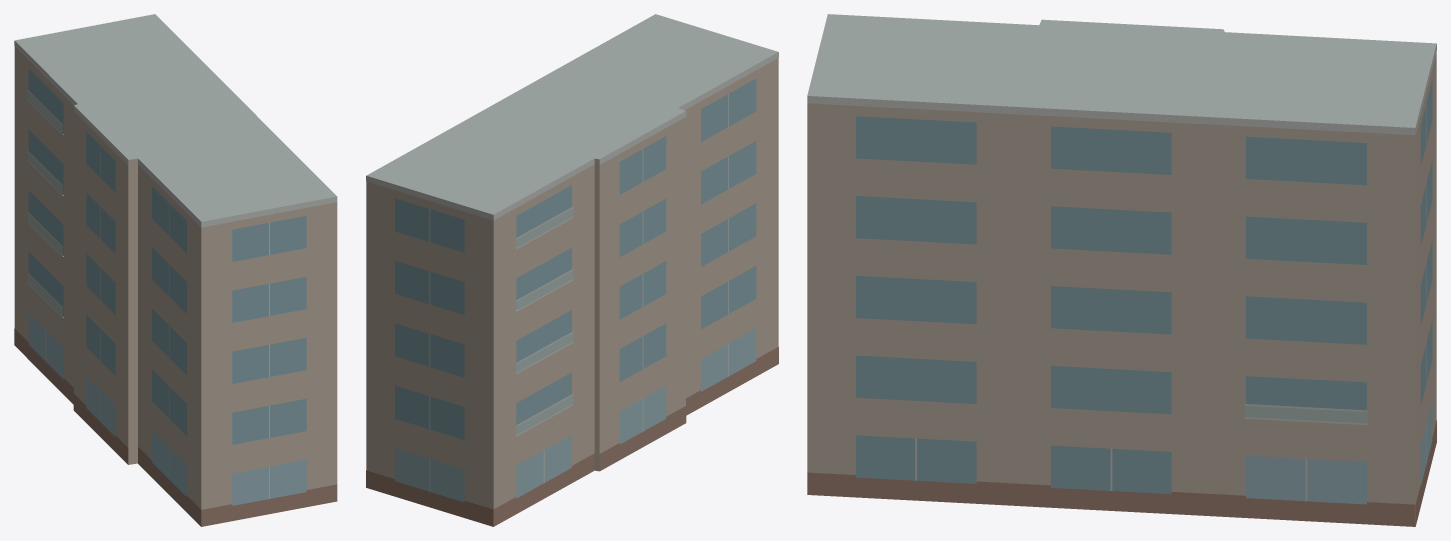
The model's file is survey-upis-32564244.glb.
3 views of the same model, side by side, from view 1: azimuth 30°, elevation 25°; view 2: azimuth 150°, elevation 25°; view 3: azimuth 270°, elevation 25° (orthographic). The views are drawn at different scales.
Visible parts, largest first — view 1: survey-upis-32564244.tmp; view 2: survey-upis-32564244.tmp; view 3: survey-upis-32564244.tmp.
Part boxes in pixels (x1,y1,x2,y2): survey-upis-32564244.tmp: (14,14,337,526); survey-upis-32564244.tmp: (366,14,778,526); survey-upis-32564244.tmp: (807,14,1436,526).
Size of the model in its own units: 8.09 by 13.2 by 18.89.
